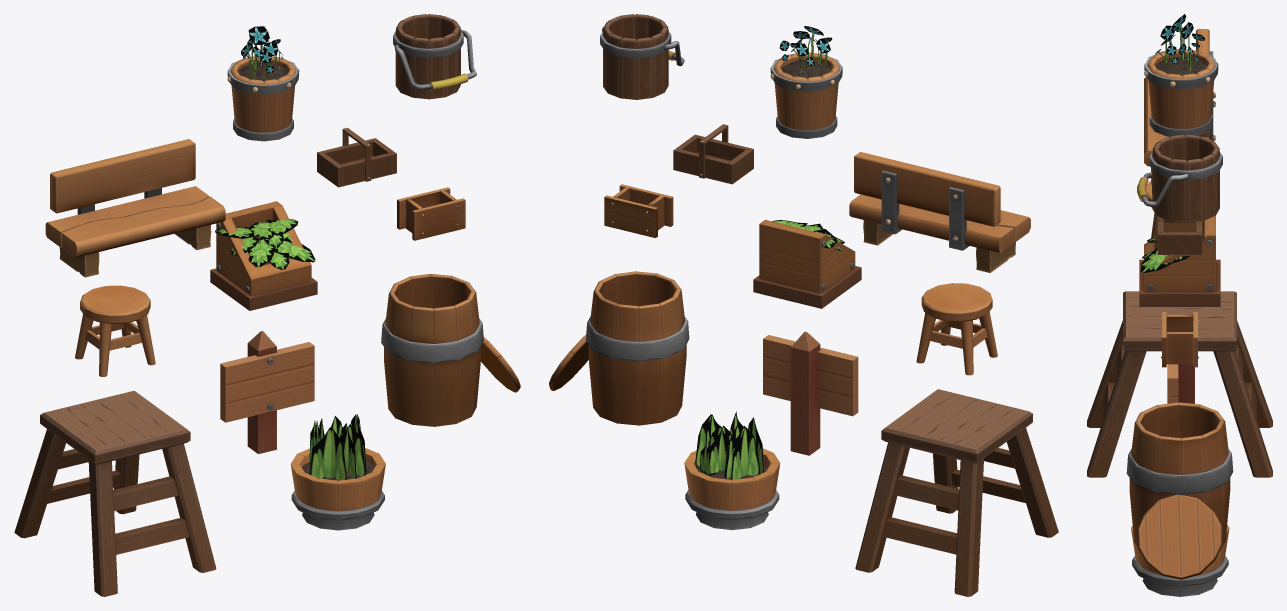
The model's file is props.glb.
3 views of the same model, side by side, from view 1: azimuth 30°, elevation 25°; view 2: azimuth 150°, elevation 25°; view 3: azimuth 270°, elevation 25° (orthographic). The views are drawn at different scales.
Parts seen in each view (by area): view 1: Ladder_low, Bench_low, Barrel_low, sign_low, FlowerPot_01_low, Bucket_low, FlowerPot_02_low, chair_low, FlowerPot_03_low, Basket_low, plants_low11, FlowerPot_04_low (+2 smaller); view 2: Ladder_low, Barrel_low, Bench_low, sign_low, FlowerPot_01_low, Bucket_low, FlowerPot_02_low, chair_low, FlowerPot_03_low, plants_low11, Basket_low, FlowerPot_04_low (+1 smaller); view 3: Barrel_low, Ladder_low, Bucket_low, FlowerPot_03_low, FlowerPot_01_low, FlowerPot_02_low, FlowerPot_04_low, Basket_low, Bench_low, plants_low44, sign_low, pPlane3 (+1 smaller).
Part boxes in pixels (x1=…): Ladder_low: x1=14, y1=390, x2=216, y2=596; Bench_low: x1=45, y1=139, x2=225, y2=277; Barrel_low: x1=381, y1=274, x2=520, y2=426; sign_low: x1=220, y1=331, x2=314, y2=453; FlowerPot_01_low: x1=210, y1=201, x2=317, y2=310; Bucket_low: x1=393, y1=14, x2=476, y2=99; FlowerPot_02_low: x1=290, y1=448, x2=385, y2=530; chair_low: x1=75, y1=285, x2=155, y2=376; FlowerPot_03_low: x1=227, y1=56, x2=299, y2=141; Basket_low: x1=317, y1=127, x2=396, y2=187; plants_low11: x1=309, y1=414, x2=366, y2=480; FlowerPot_04_low: x1=397, y1=187, x2=465, y2=240; Ladder_low: x1=855, y1=389, x2=1058, y2=596; Barrel_low: x1=549, y1=271, x2=689, y2=425; Bench_low: x1=849, y1=152, x2=1030, y2=272; sign_low: x1=763, y1=331, x2=858, y2=455; FlowerPot_01_low: x1=753, y1=219, x2=861, y2=308; Bucket_low: x1=600, y1=14, x2=684, y2=99; FlowerPot_02_low: x1=684, y1=448, x2=780, y2=530; chair_low: x1=916, y1=283, x2=997, y2=375; FlowerPot_03_low: x1=770, y1=52, x2=842, y2=138; plants_low11: x1=695, y1=411, x2=763, y2=479; Basket_low: x1=673, y1=124, x2=753, y2=184; FlowerPot_04_low: x1=604, y1=184, x2=673, y2=237; Barrel_low: x1=1126, y1=402, x2=1233, y2=579; Ladder_low: x1=1087, y1=291, x2=1272, y2=477; Bucket_low: x1=1137, y1=134, x2=1222, y2=222; FlowerPot_03_low: x1=1144, y1=49, x2=1218, y2=136; FlowerPot_01_low: x1=1139, y1=215, x2=1220, y2=306; FlowerPot_02_low: x1=1131, y1=525, x2=1229, y2=596; FlowerPot_04_low: x1=1161, y1=312, x2=1198, y2=367; Basket_low: x1=1154, y1=214, x2=1205, y2=254; Bench_low: x1=1144, y1=29, x2=1215, y2=184; plants_low44: x1=1155, y1=14, x2=1204, y2=72; sign_low: x1=1167, y1=364, x2=1194, y2=403; pPlane3: x1=1155, y1=57, x2=1207, y2=75.
Bounding box in the file's own units: 2.44 × 2.6 × 0.8358.
3 materials, 3 textured.
